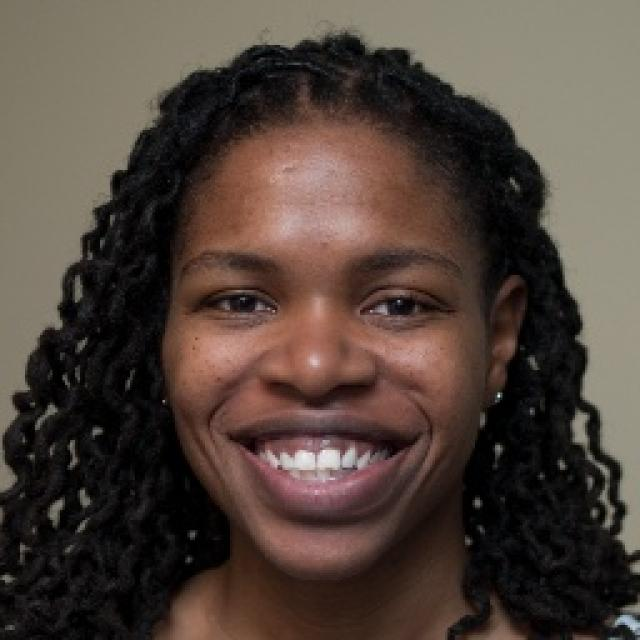earlobe: (480, 378, 506, 411)
eye: (362, 286, 442, 325), (206, 281, 275, 322)
nose: (263, 386, 367, 410)
wholeear: (481, 271, 532, 411)
